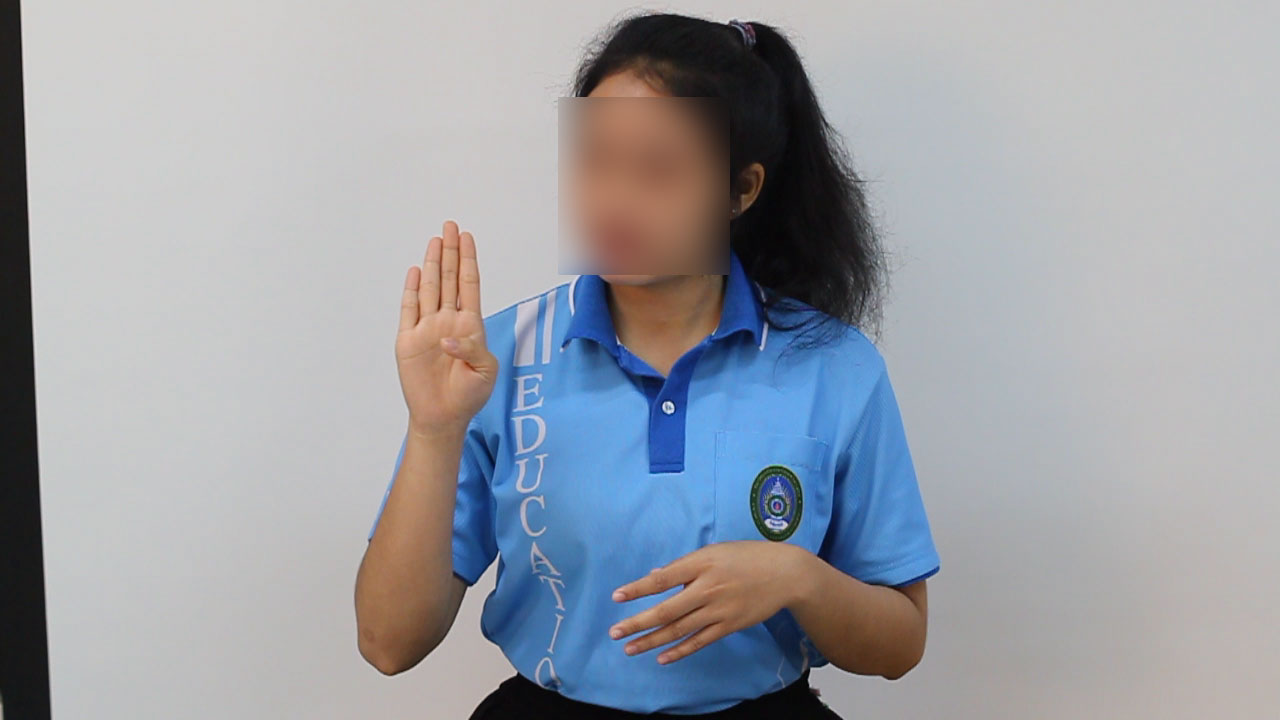bor: (367, 207, 518, 462)
